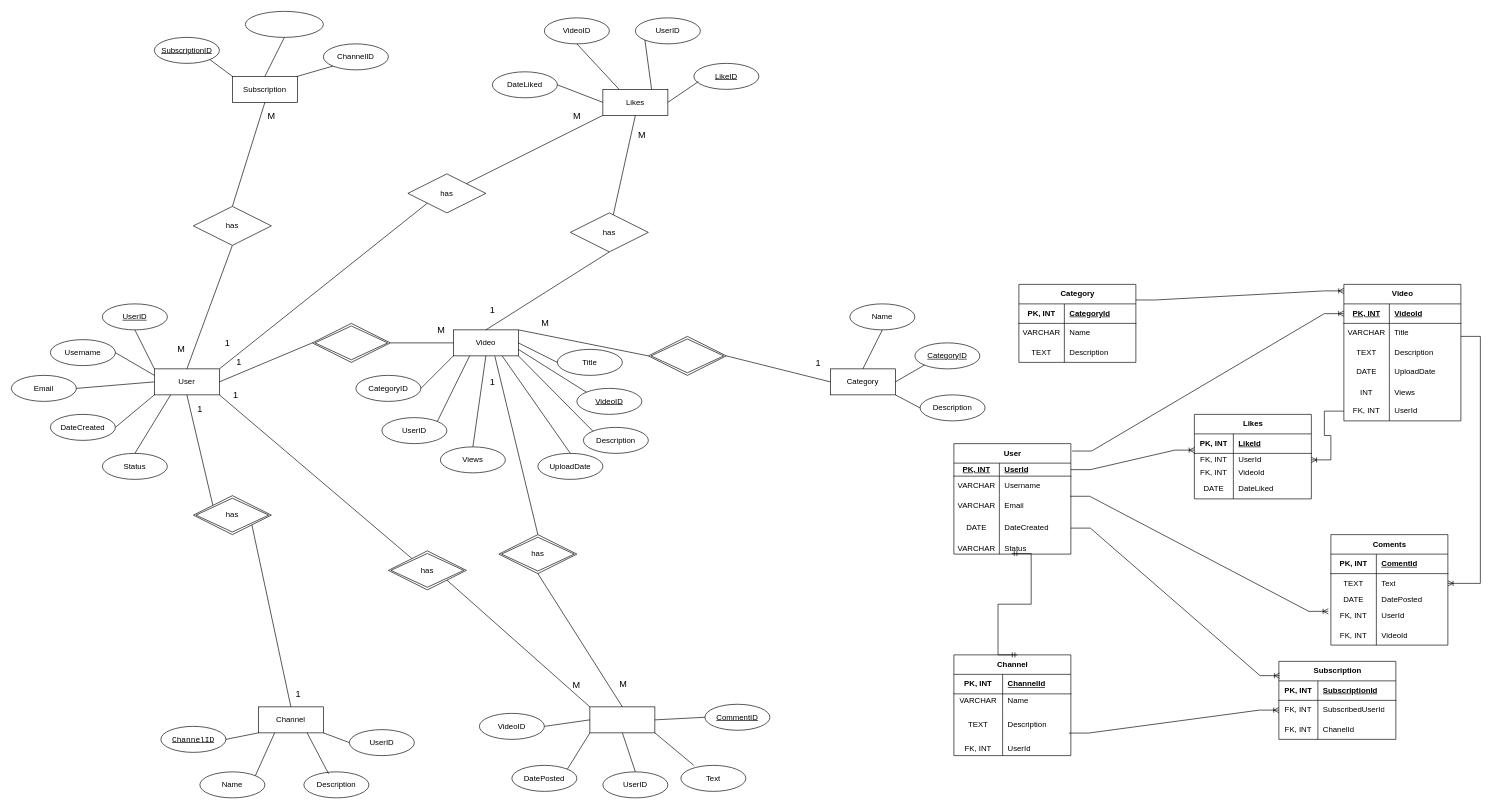
The diagram is 1497 pixels wide and 809 high, and some of its shapes have lost their labels. The centre of each missing label's shape, as x and y in pixels:
"BelongsTo" goes at pixel 687 355.
"Comment" goes at pixel 622 719.
"SubscriberUserID" goes at pixel 284 24.
"Uploads" goes at pixel 351 342.
